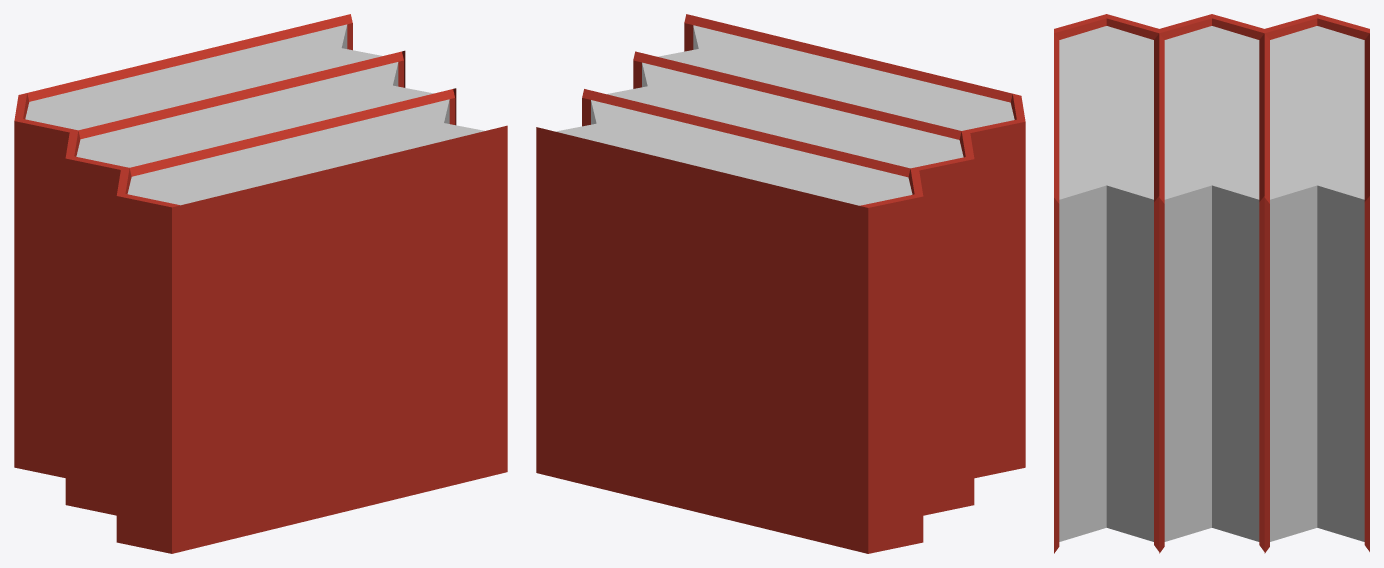
The model's file is books.fbx.
The picture shows the model from 3 angles, left to right: view 1: azimuth 30°, elevation 25°; view 2: azimuth 150°, elevation 25°; view 3: azimuth 270°, elevation 25°; orthographic projection. The views are drawn at different scales.
Parts seen in each view (by area): view 1: books; view 2: books; view 3: books.
Boxes of the visible parts, x1,y1,x2,y2 form: books: [14, 14, 507, 553]; books: [536, 14, 1025, 553]; books: [1054, 14, 1369, 553].
Size of the model in its own units: 28.86 by 26.16 by 21.
